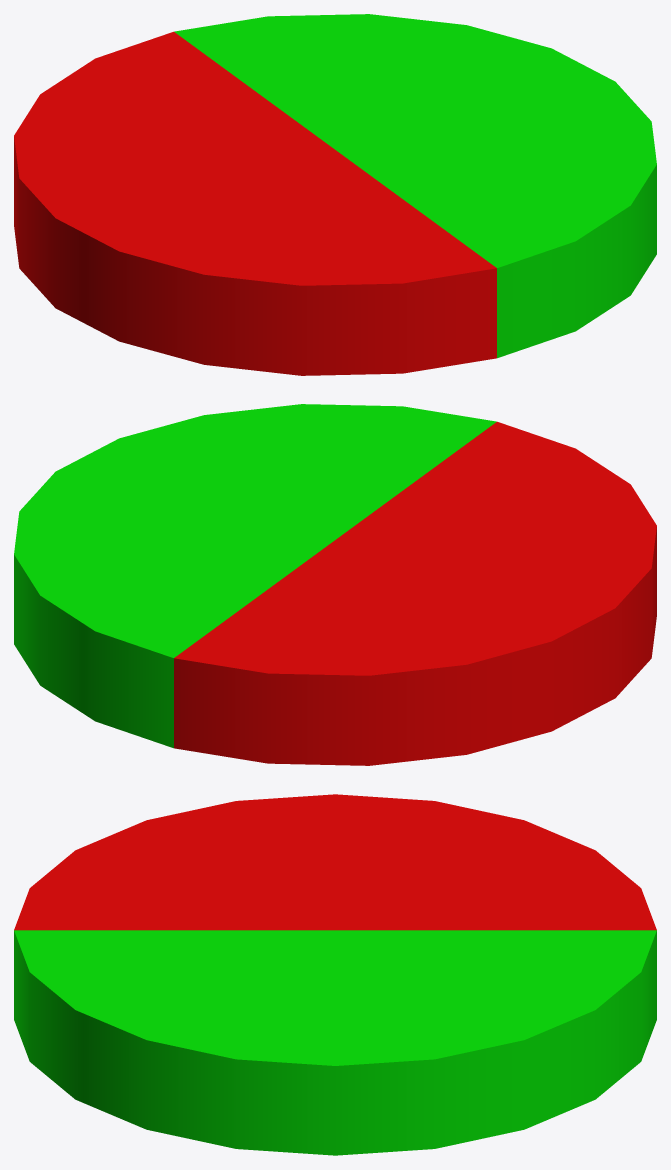
The model's file is 2_renk_kirmizi_yesil.fbx.
3 views of the same model, one above another, from view 1: azimuth 30°, elevation 25°; view 2: azimuth 150°, elevation 25°; view 3: azimuth 270°, elevation 25° (orthographic).
Visible parts, largest first — view 1: pCylinder12; view 2: pCylinder12; view 3: pCylinder12.
Part boxes in pixels (x1,y1,x2,y2): pCylinder12: (14,14,656,375); pCylinder12: (14,404,656,765); pCylinder12: (14,794,656,1155).
Size of the model in its own units: 6.28 by 0.9651 by 6.28.
